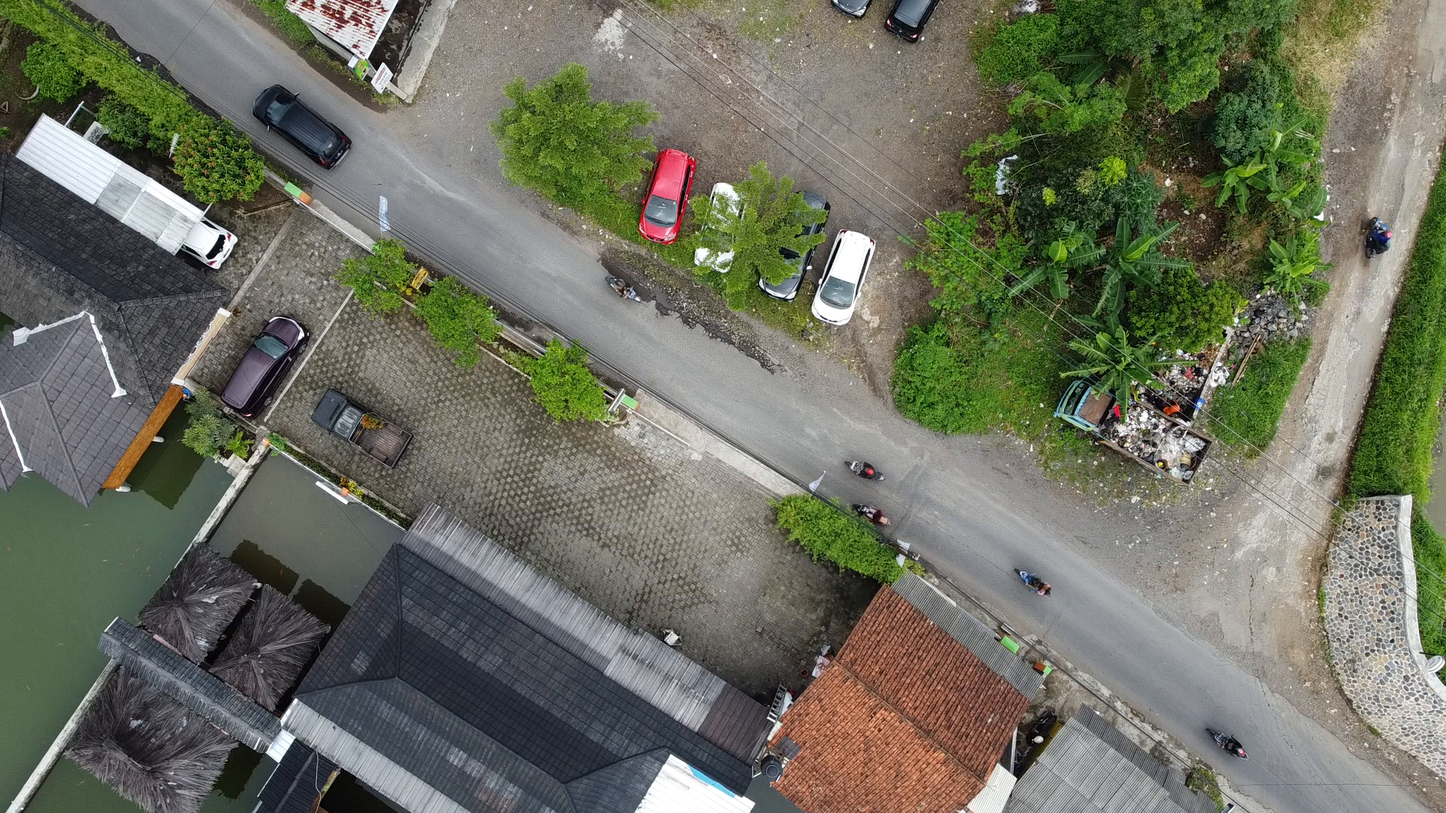mobil: (216, 306, 316, 420), (249, 81, 359, 178), (308, 385, 416, 474), (757, 187, 837, 306), (813, 219, 886, 332), (635, 144, 704, 247), (694, 178, 753, 277), (175, 216, 244, 269), (877, 1, 947, 51)
